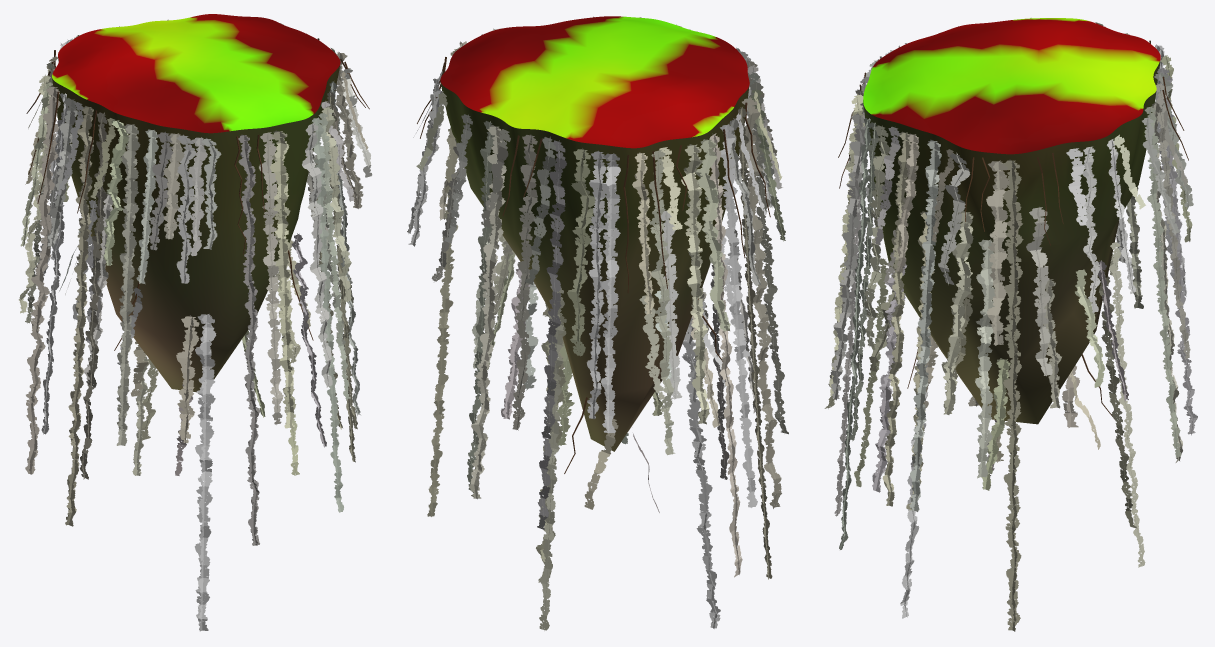
The model's file is SM_H16_Floater02.fbx.
3 views of the same model, side by side, from view 1: azimuth 30°, elevation 25°; view 2: azimuth 150°, elevation 25°; view 3: azimuth 270°, elevation 25° (orthographic). The views are drawn at different scales.
Parts seen in each view (by area): view 1: SM_H16_Floater02_Ivy, SM_H16_Floater02; view 2: SM_H16_Floater02_Ivy, SM_H16_Floater02; view 3: SM_H16_Floater02_Ivy, SM_H16_Floater02.
Boxes of the visible parts, x1,y1,x2,y2 form: SM_H16_Floater02_Ivy: (18, 19, 372, 631); SM_H16_Floater02: (52, 14, 340, 392); SM_H16_Floater02_Ivy: (407, 16, 788, 630); SM_H16_Floater02: (440, 16, 749, 451); SM_H16_Floater02_Ivy: (824, 17, 1197, 631); SM_H16_Floater02: (863, 18, 1160, 424).
Bounding box in the file's own units: 22.85 × 37.21 × 22.26.
